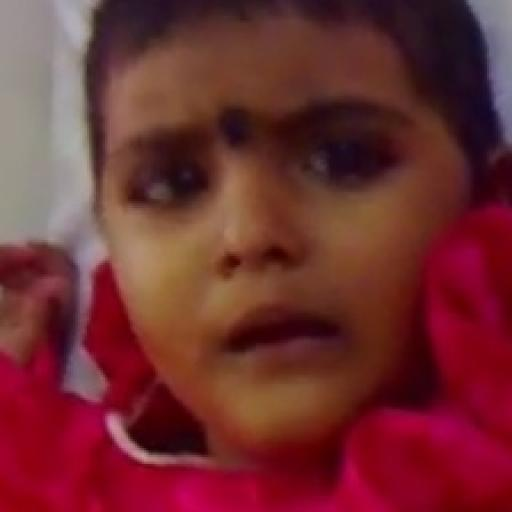Autism: (73, 16, 512, 507)
